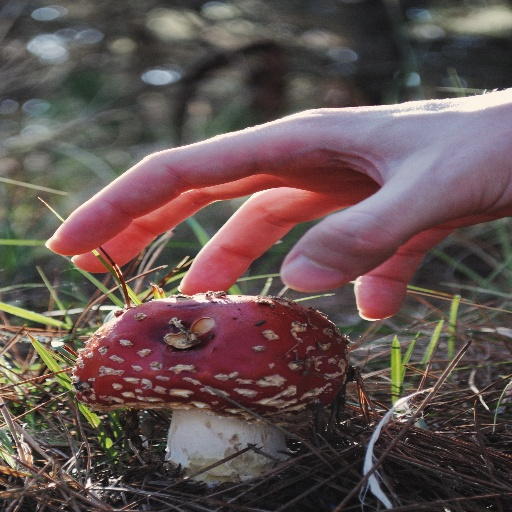hand: (45, 84, 512, 390)
